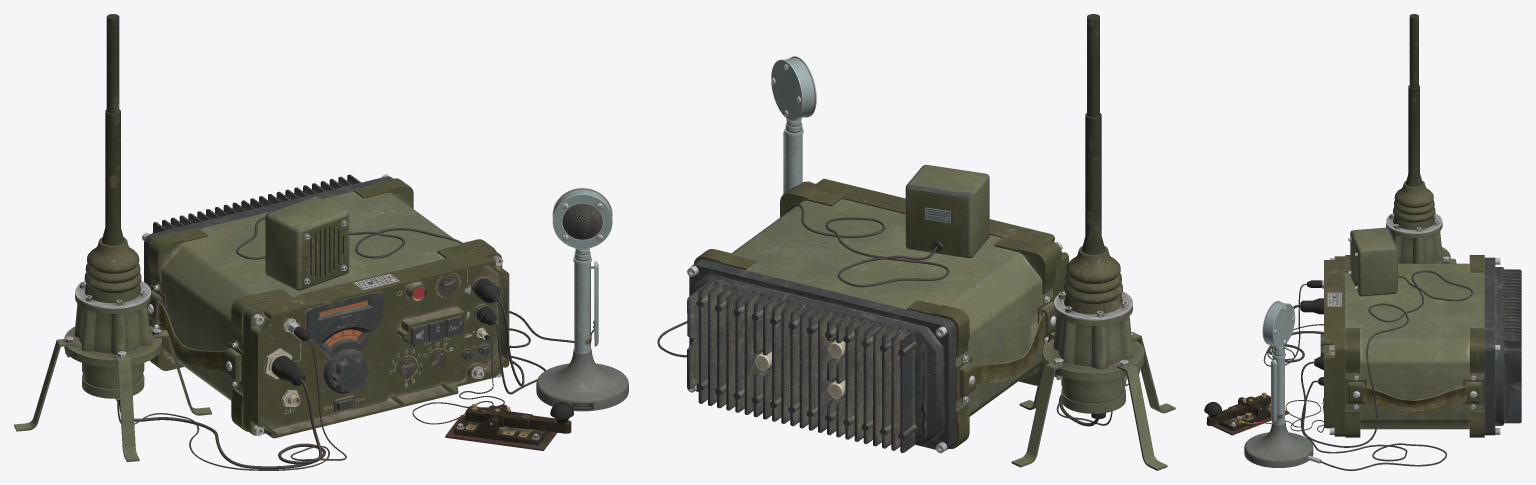
The model's file is vintage_radio_transceiver.glb.
3 views of the same model, side by side, from view 1: azimuth 30°, elevation 25°; view 2: azimuth 150°, elevation 25°; view 3: azimuth 270°, elevation 25° (orthographic). The views are drawn at different scales.
Parts seen in each view (by area): view 1: vintage_radio_transceiver, vintage_radio_transceiver_cable; view 2: vintage_radio_transceiver, vintage_radio_transceiver_cable; view 3: vintage_radio_transceiver, vintage_radio_transceiver_cable.
Part boxes in pixels (x1=…): vintage_radio_transceiver: x1=142, y1=174, x2=509, y2=438; vintage_radio_transceiver_cable: x1=14, y1=14, x2=628, y2=470; vintage_radio_transceiver: x1=687, y1=178, x2=1068, y2=453; vintage_radio_transceiver_cable: x1=657, y1=14, x2=1175, y2=470; vintage_radio_transceiver: x1=1320, y1=255, x2=1521, y2=437; vintage_radio_transceiver_cable: x1=1204, y1=14, x2=1473, y2=470.
Bounding box in the file's own units: 0.574 × 0.4344 × 0.4131.
Materials: 2 (2 with a texture image).
